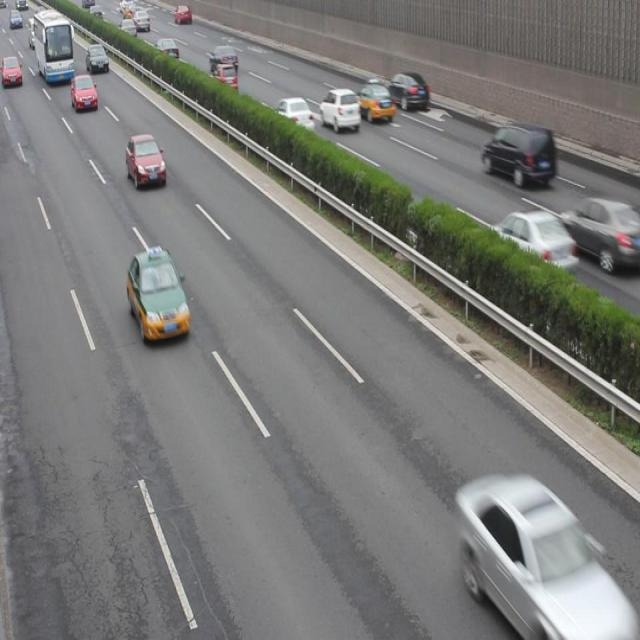car: (456, 477, 626, 640), (127, 250, 191, 343), (559, 196, 640, 269), (485, 210, 576, 274), (125, 135, 167, 189), (319, 90, 360, 130), (386, 73, 428, 111), (354, 82, 393, 122), (273, 97, 313, 133), (70, 74, 97, 111), (208, 46, 236, 73), (86, 44, 110, 75), (213, 62, 238, 90), (153, 36, 179, 62), (0, 56, 22, 86), (173, 1, 192, 26), (131, 10, 149, 30), (118, 19, 134, 39)
truck: (480, 122, 555, 185)
van: (32, 9, 75, 83)
